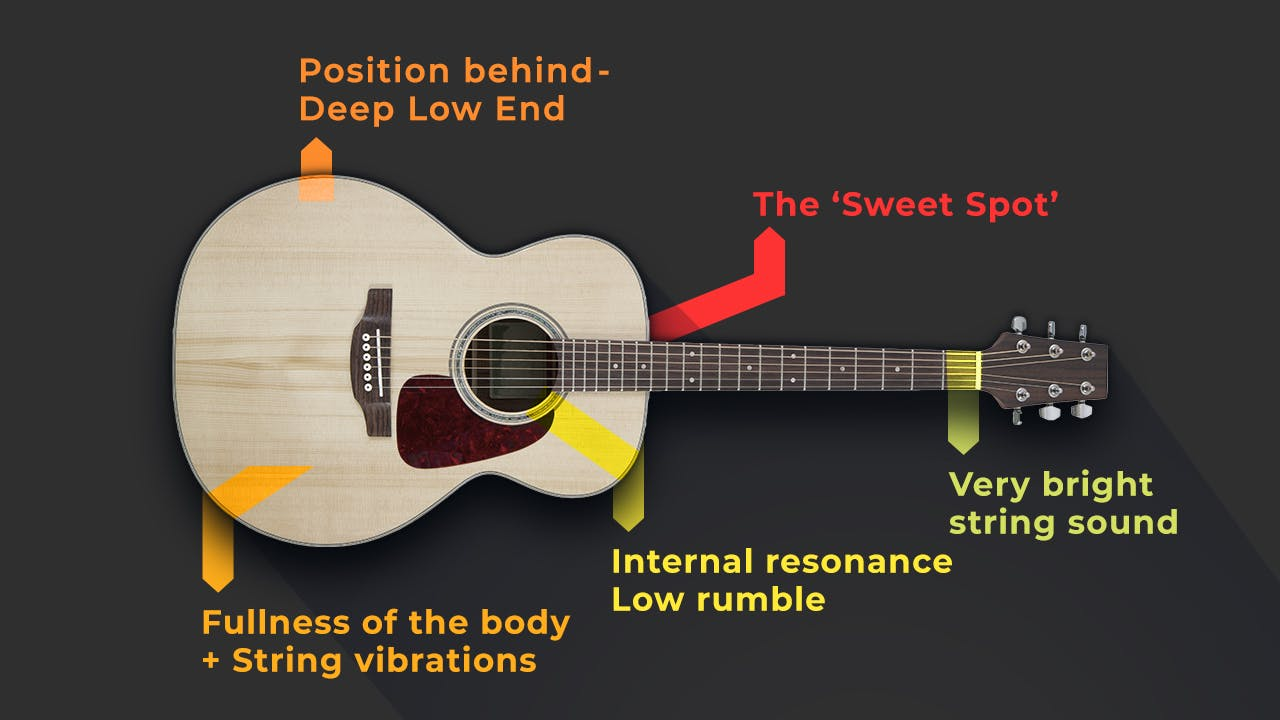guitar: (170, 152, 1232, 553)
